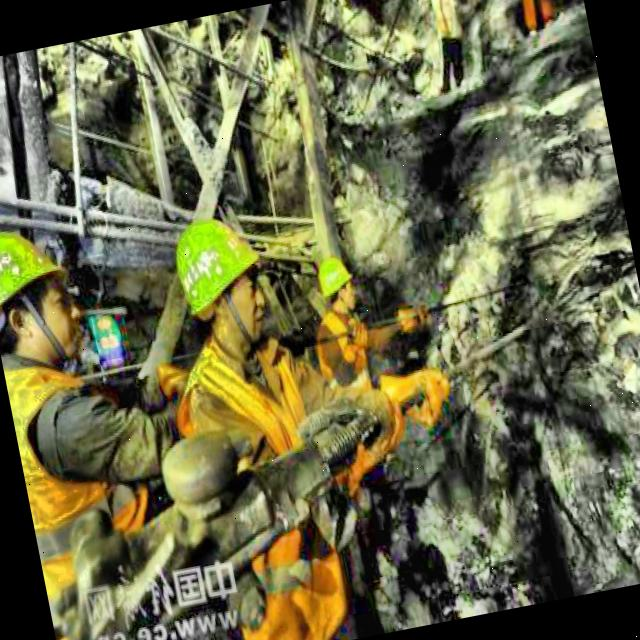helmet: (158, 206, 274, 361), (0, 213, 85, 376), (310, 248, 364, 326)
